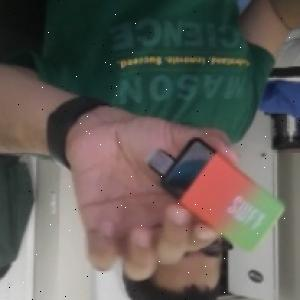Swift-E-Ciggirate: (144, 134, 286, 256)
